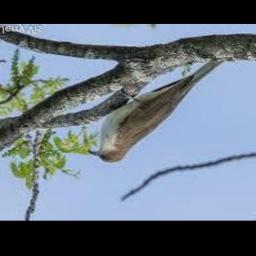Cuckoo: (87, 61, 225, 163)
